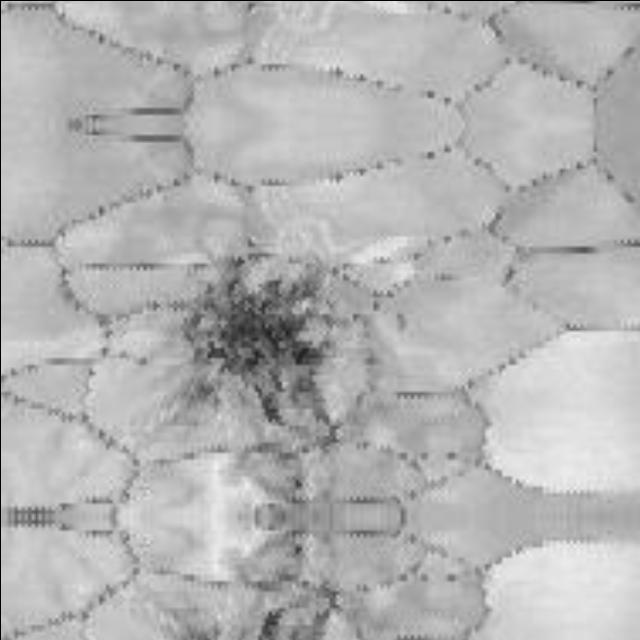good_void: (179, 266, 339, 430)
